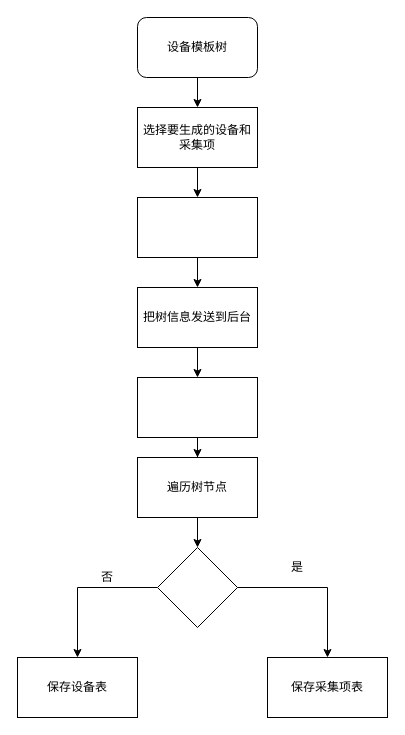
The diagram is 405 pixels wide and 735 high, and some of its shapes have lost their labels. The centre of each missing label's shape, as x and y in pixels:
修改树的节点信息: pixel 197 227
判断是否是采集项: pixel 197 587
自动生成实例树编码: pixel 197 407
